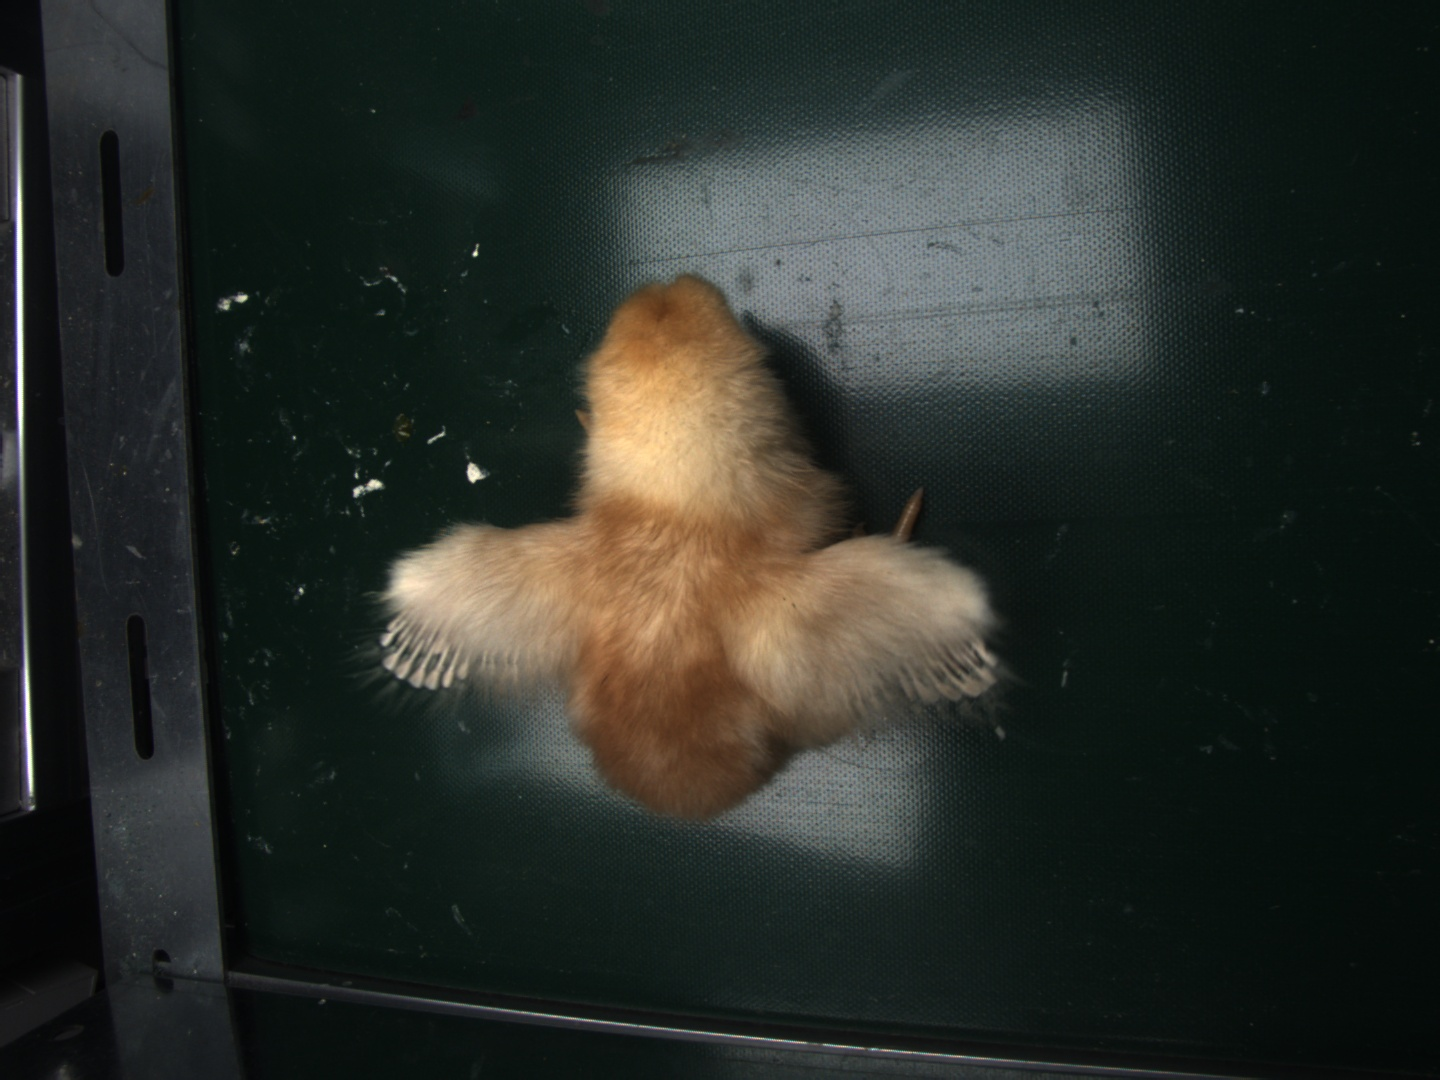female: (382, 614, 472, 693)
